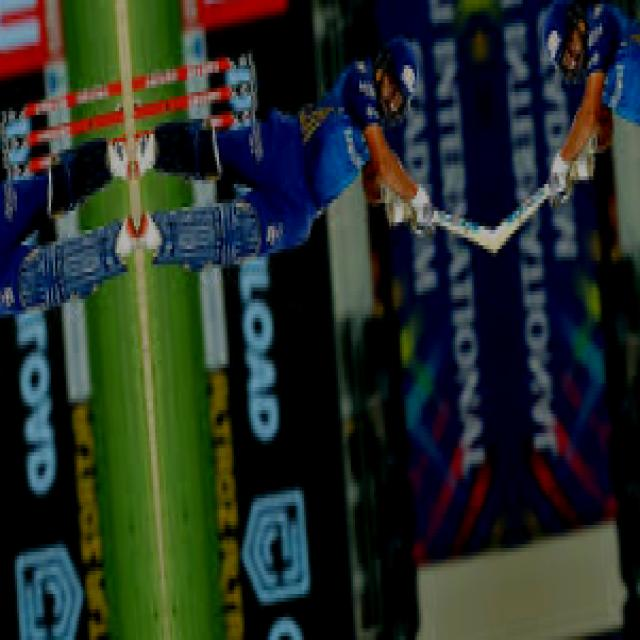toe: (479, 222, 496, 256)
